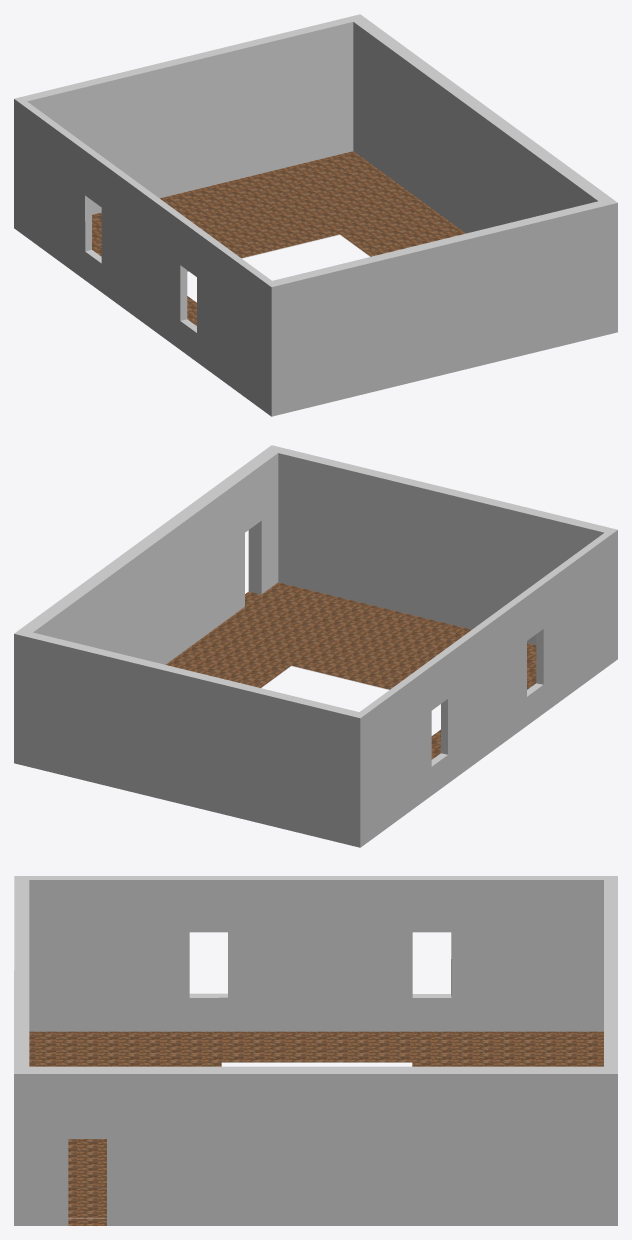
The model's file is stairwell_4.fbx.
3 renders of one model, top to bottom at view 1: azimuth 30°, elevation 25°; view 2: azimuth 150°, elevation 25°; view 3: azimuth 270°, elevation 25°, orthographic. The views are drawn at different scales.
Visible parts, largest first — view 1: Classroom 1.036; view 2: Classroom 1.036; view 3: Classroom 1.036.
Part boxes in pixels (<box>): Classroom 1.036: <box>14,14,617,416</box>; Classroom 1.036: <box>14,445,617,847</box>; Classroom 1.036: <box>14,876,617,1225</box>.
Size of the model in its own units: 1907 by 686 by 2457.
